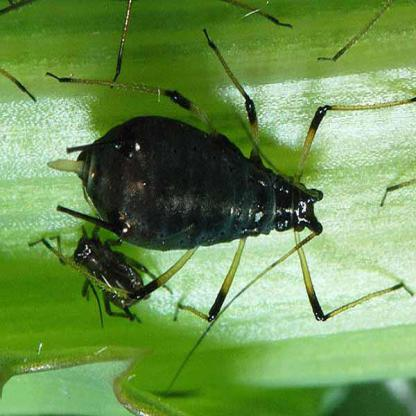uroleucon compositae: (49, 31, 329, 374)
